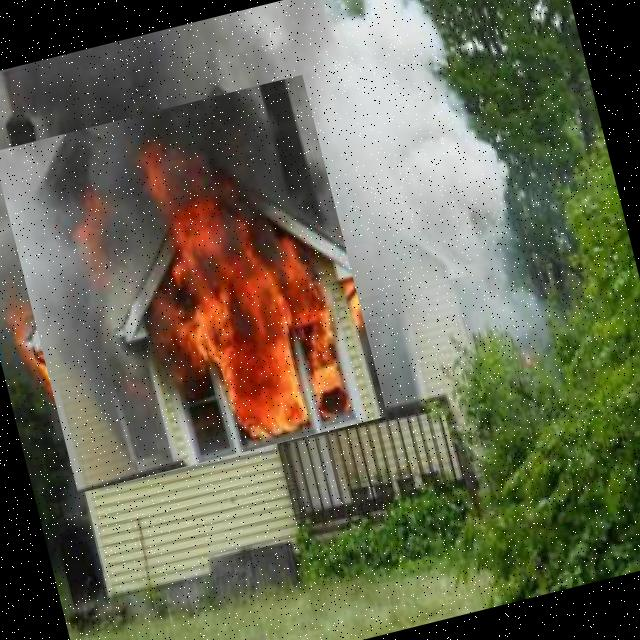fire: (0, 74, 387, 493)
